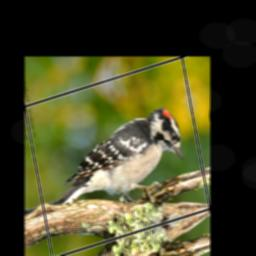Woodpecker: (38, 100, 190, 231)
